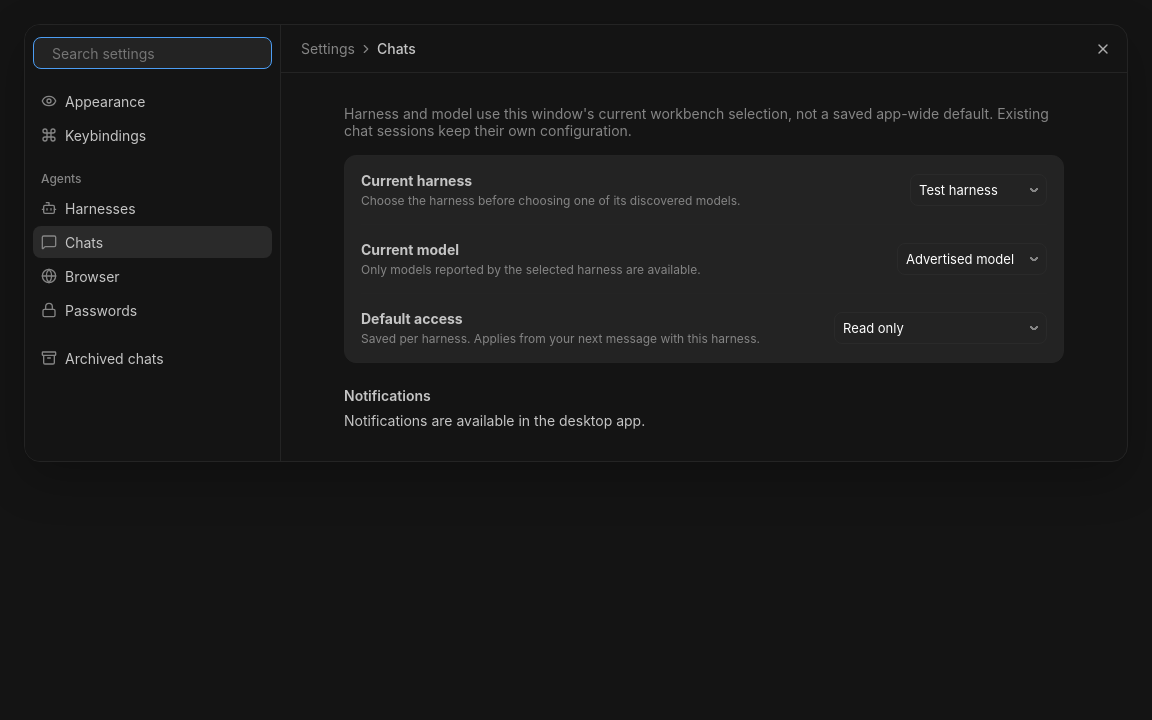
Test: restores an archived chat through the existing project-scoped action
The image size is (1152, 720).
Click the button "Archived chats" at point(152, 358), box x1=33 y1=342 x2=272 y2=374
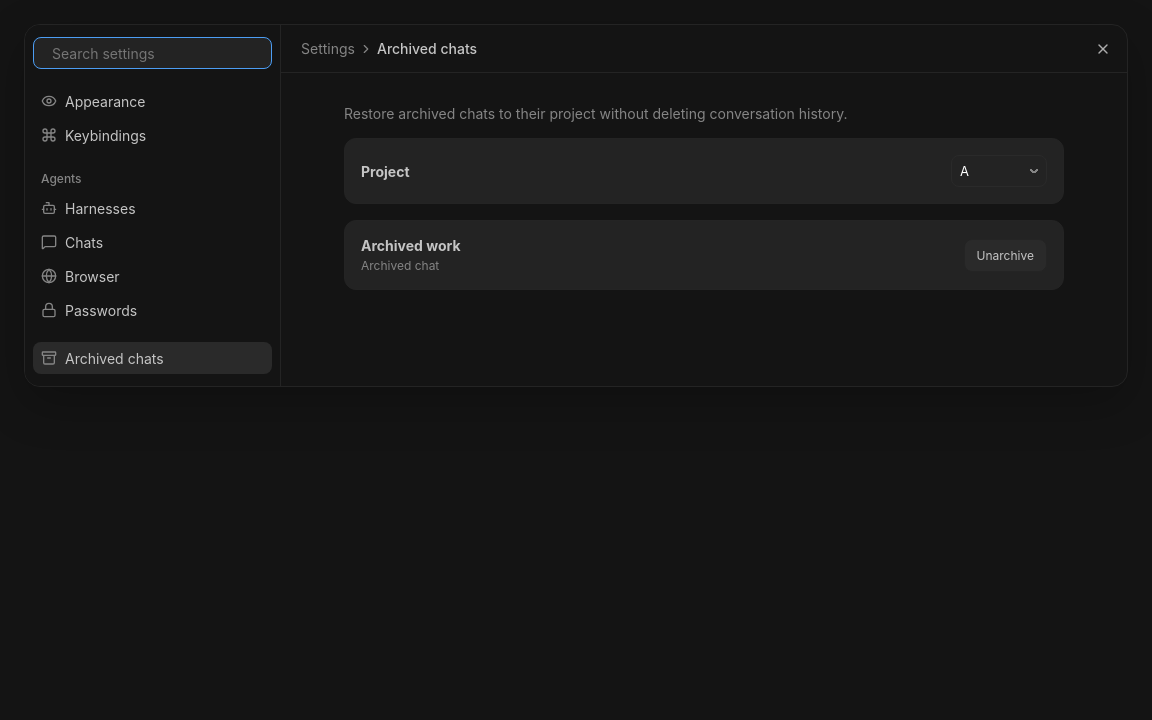
Click the button with aria-label "Unarchive Archived work" at point(1005, 255), box x1=964 y1=238 x2=1047 y2=272
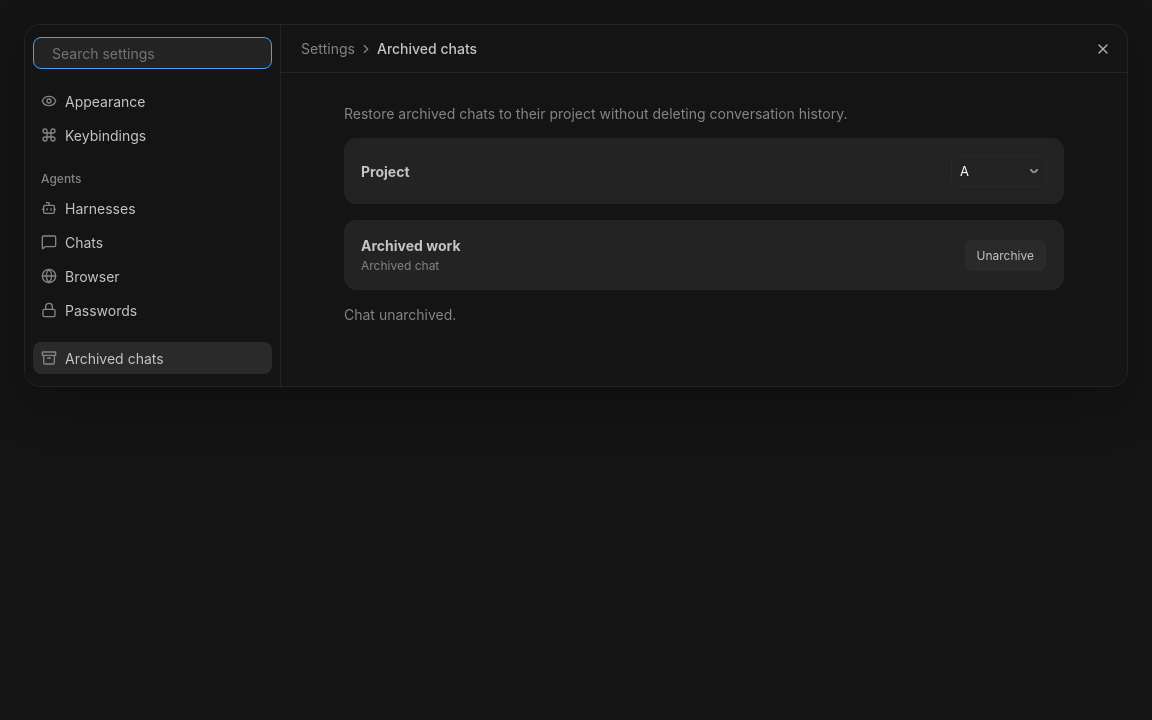
Check: the text "Chat unarchived." is shown, box x1=344 y1=306 x2=456 y2=323
